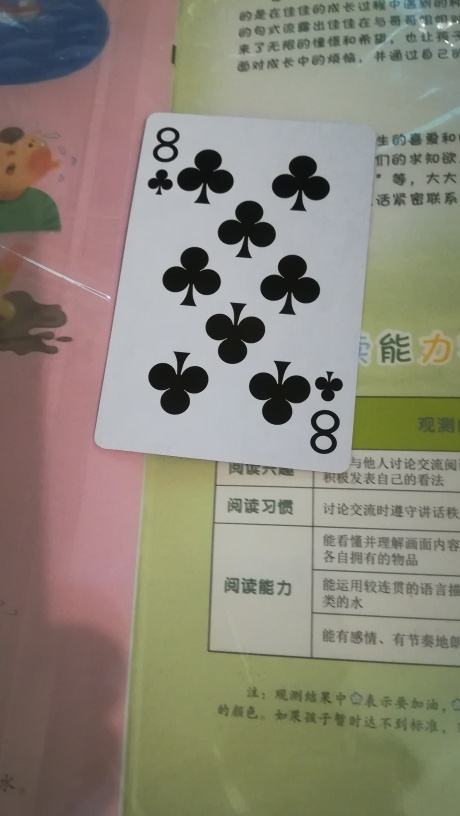mh 8: (89, 107, 376, 481)
